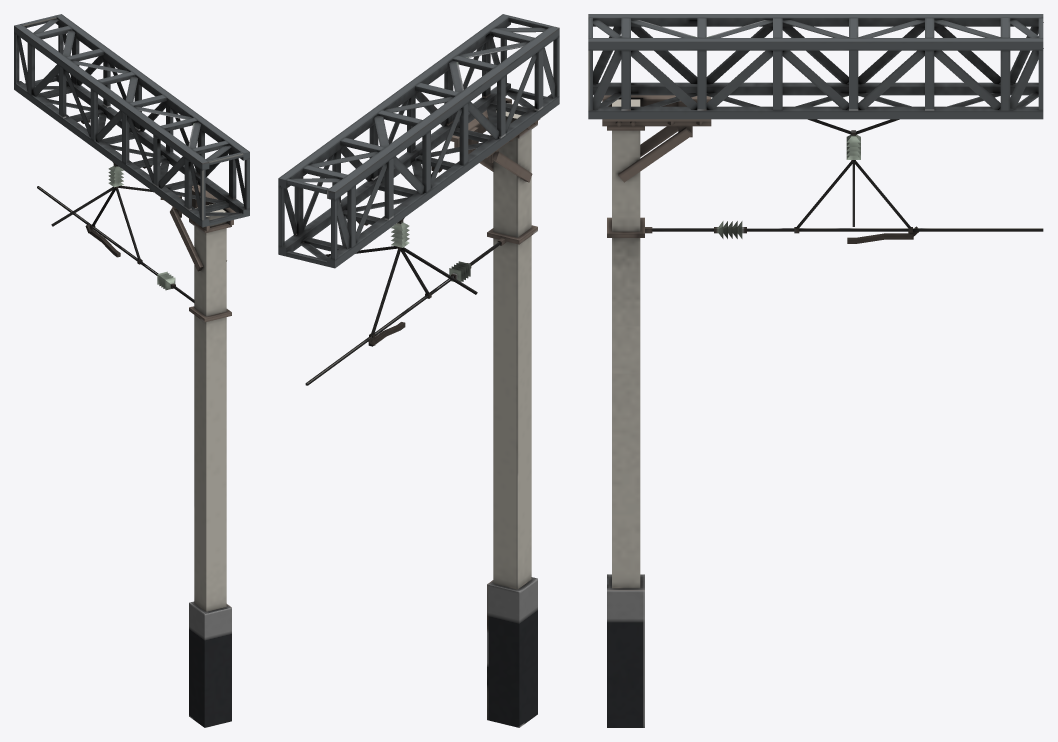
The model's file is mvp_ir_oversup.obj.
3 views of the same model, side by side, from view 1: azimuth 30°, elevation 25°; view 2: azimuth 150°, elevation 25°; view 3: azimuth 270°, elevation 25° (orthographic). The views are drawn at different scales.
Visible parts, largest first — view 1: RAIL_BASE_oversup; view 2: RAIL_BASE_oversup; view 3: RAIL_BASE_oversup.
Boxes of the visible parts, x1,y1,x2,y2 form: RAIL_BASE_oversup: (14, 14, 249, 727); RAIL_BASE_oversup: (278, 14, 559, 727); RAIL_BASE_oversup: (588, 14, 1043, 727).
Size of the model in its own units: 2.37 by 10.06 by 6.01.
1 material, 1 textured.
